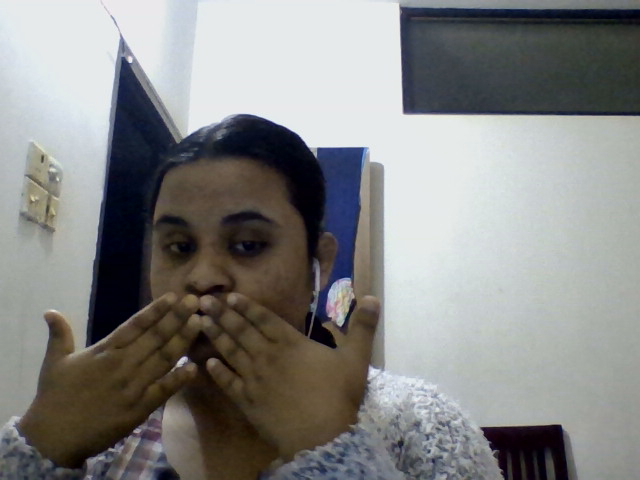Thank You: (20, 97, 466, 455)
